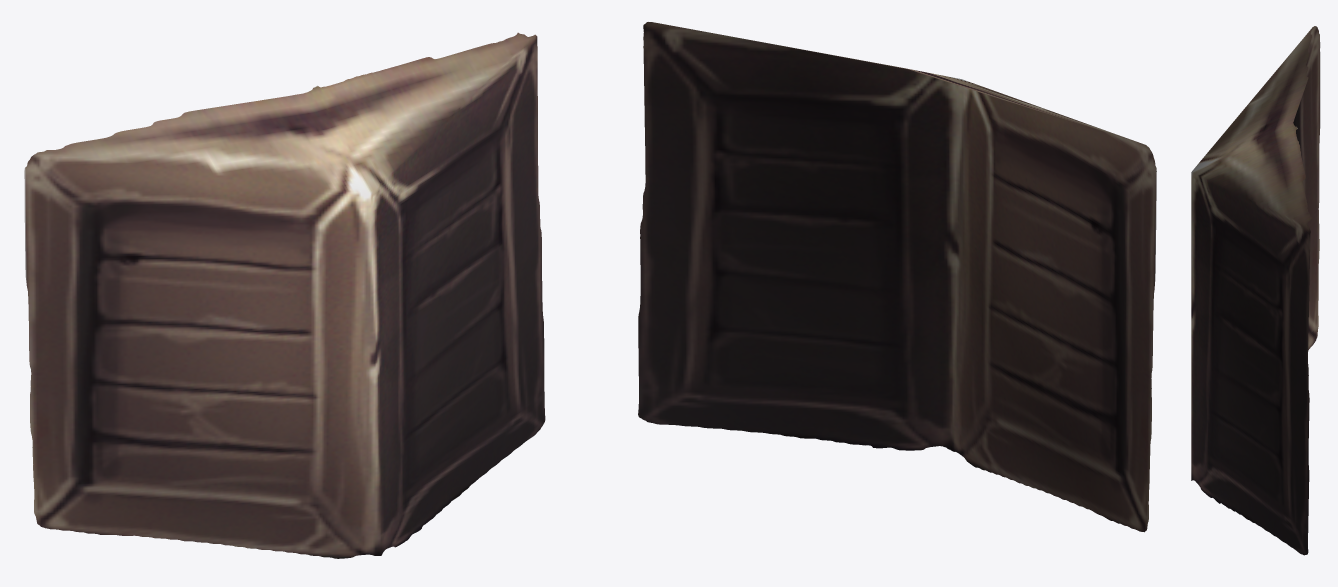
File: Crate A.FBX
3 renders of one model, left to right at view 1: azimuth 30°, elevation 25°; view 2: azimuth 150°, elevation 25°; view 3: azimuth 270°, elevation 25°, orthographic. The views are drawn at different scales.
Parts seen in each view (by area): view 1: Crate A; view 2: Crate A; view 3: Crate A.
Boxes of the visible parts, x1,y1,x2,y2 form: Crate A: [24, 32, 545, 558]; Crate A: [638, 22, 1156, 532]; Crate A: [1191, 26, 1320, 555].
Bounding box in the file's own units: 325 × 80.84 × 256.
